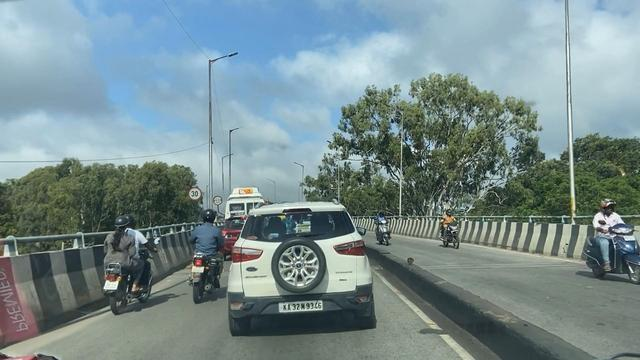LMV: (228, 204, 376, 327), (98, 204, 152, 320), (177, 203, 215, 309)
